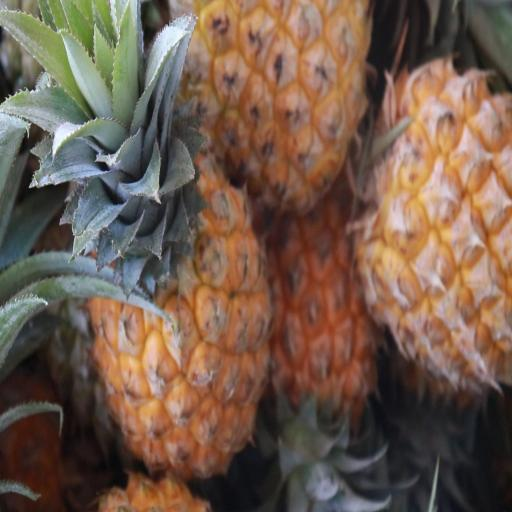Pineapple - v8 v1: (86, 112, 273, 472), (359, 63, 512, 373), (192, 0, 366, 212), (270, 156, 399, 412)
